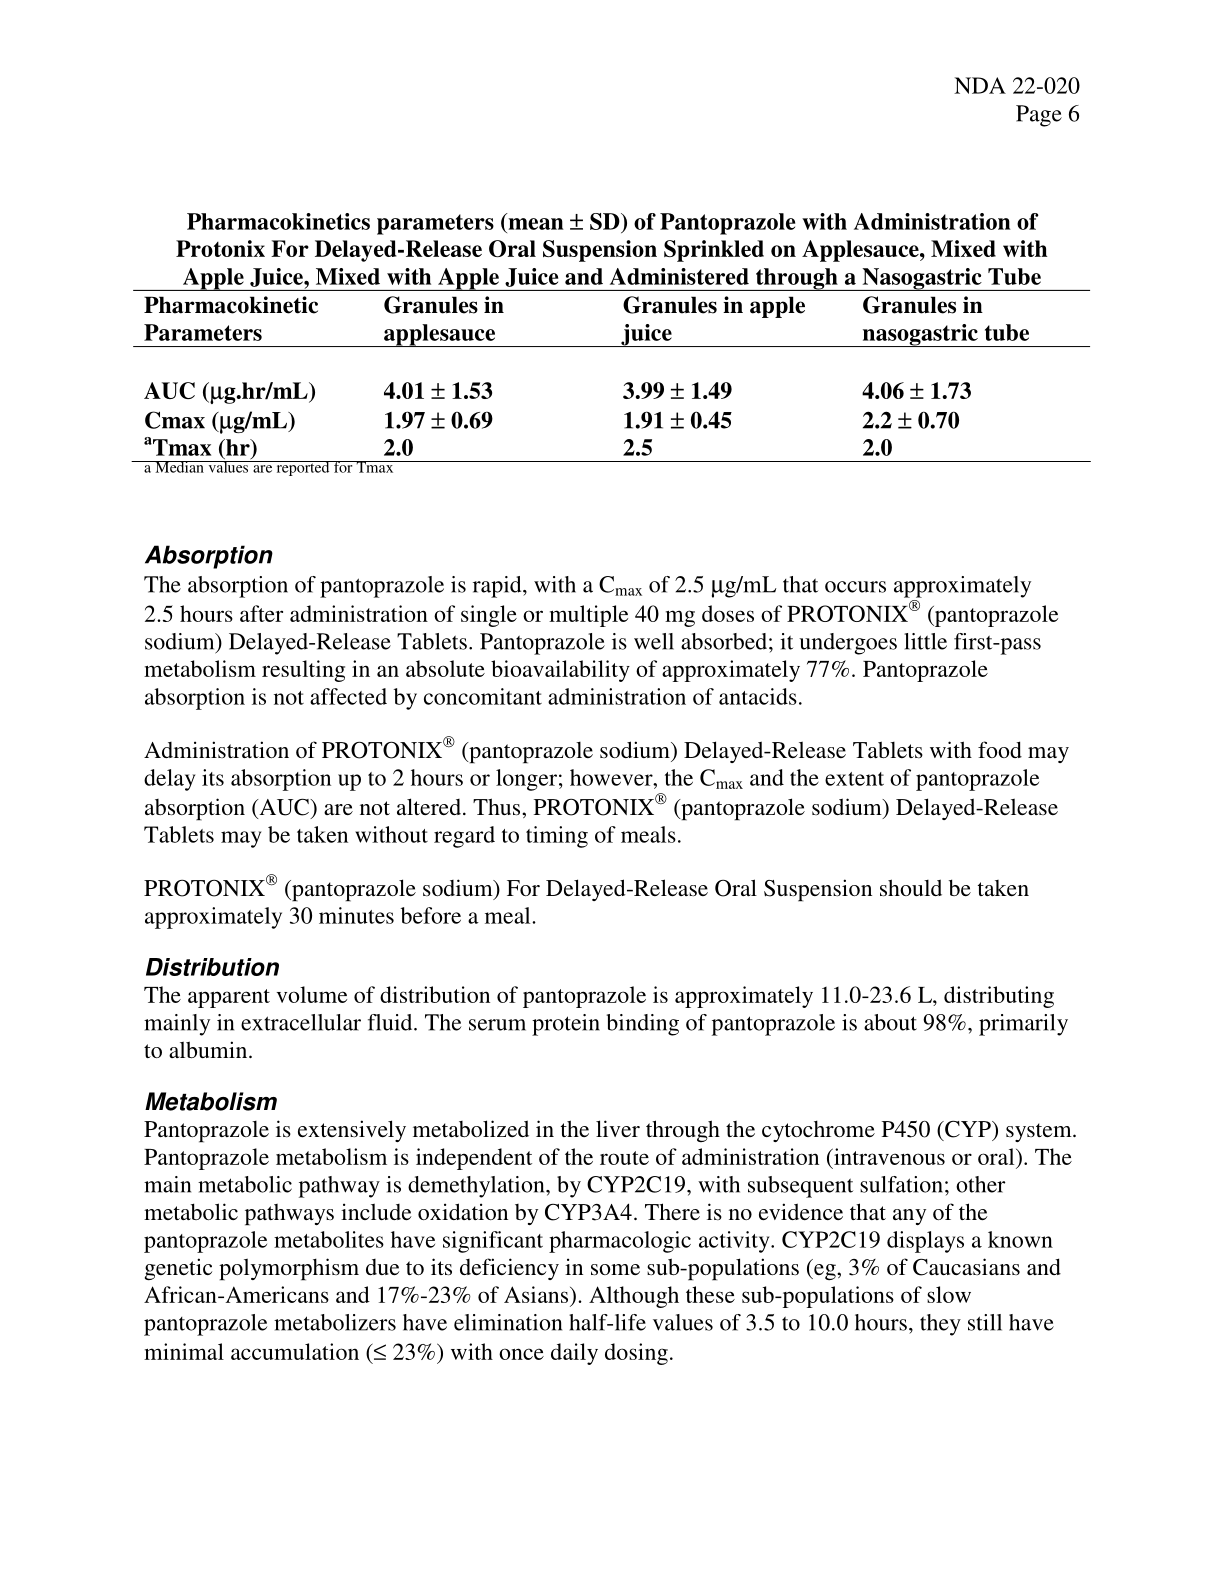partial_lined: (132, 287, 1090, 464)
